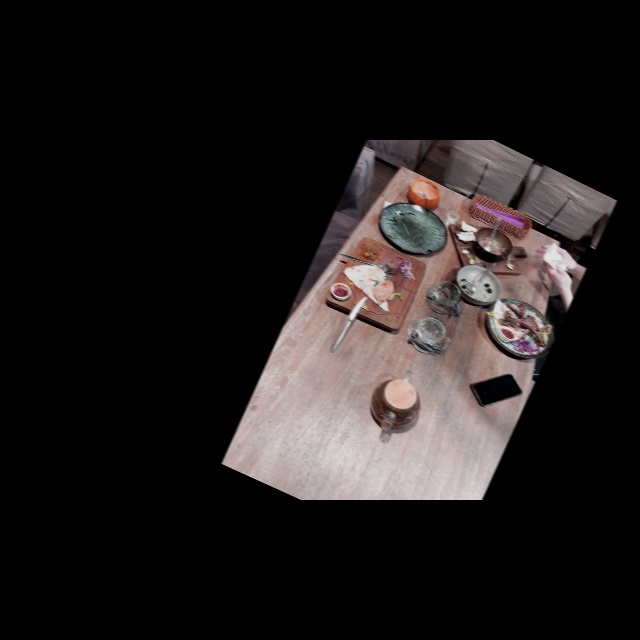Том Ям(пустая тарелка): (436, 208, 535, 293)
закуска(пустая тарелка): (323, 229, 430, 336)
мясо(пустая тарелка): (475, 289, 565, 369)
салат цезарь: (449, 258, 508, 313)
салат(пустая тарелка): (370, 191, 456, 267)
сырный суп(пустая тарелка): (403, 173, 446, 215)
